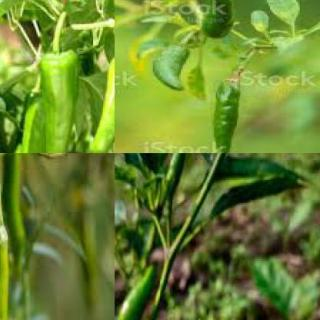green_chilli: (40, 48, 79, 152), (87, 49, 114, 152), (209, 77, 246, 152), (115, 264, 162, 319), (189, 0, 239, 43), (148, 41, 186, 94), (16, 95, 49, 152), (160, 153, 192, 209)
